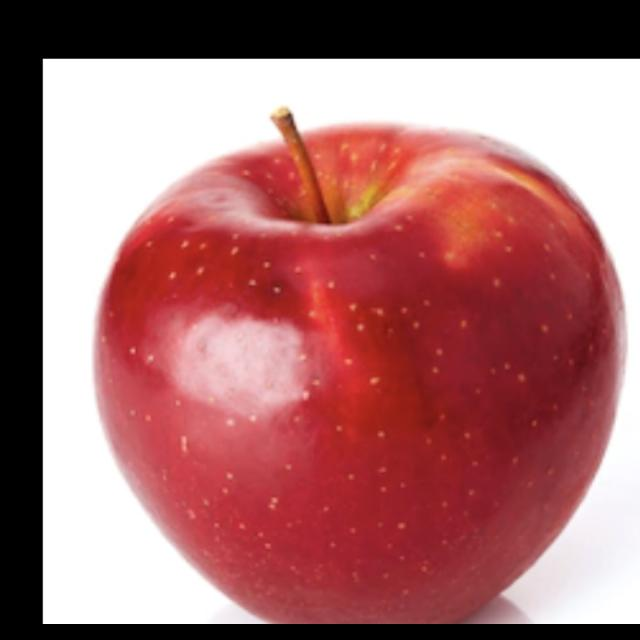Apel Segar: (78, 92, 640, 624)
